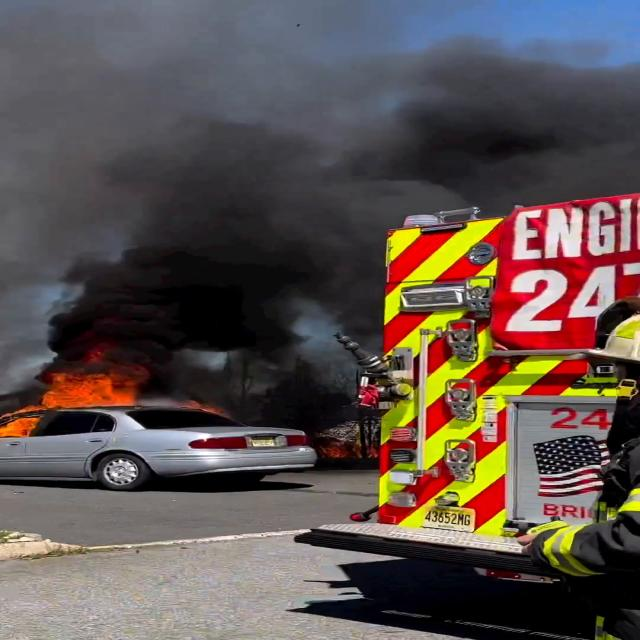fire: (45, 378, 136, 412)
smoke: (4, 71, 630, 198), (158, 206, 368, 342), (61, 281, 148, 357)
